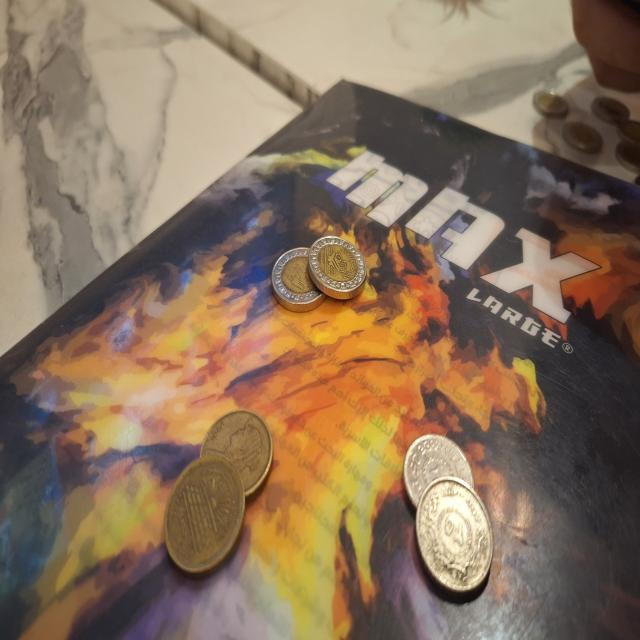Half Pound: (161, 453, 247, 590), (198, 405, 273, 507)
One Pound: (267, 225, 327, 324), (307, 232, 371, 298)
quarter pound: (414, 478, 503, 598), (400, 430, 482, 512)
